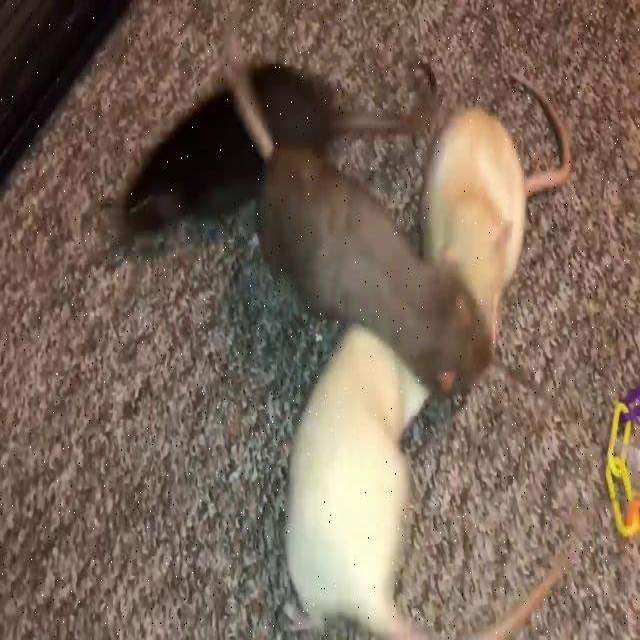rat: (258, 130, 484, 389), (439, 53, 569, 344), (108, 67, 306, 221)
